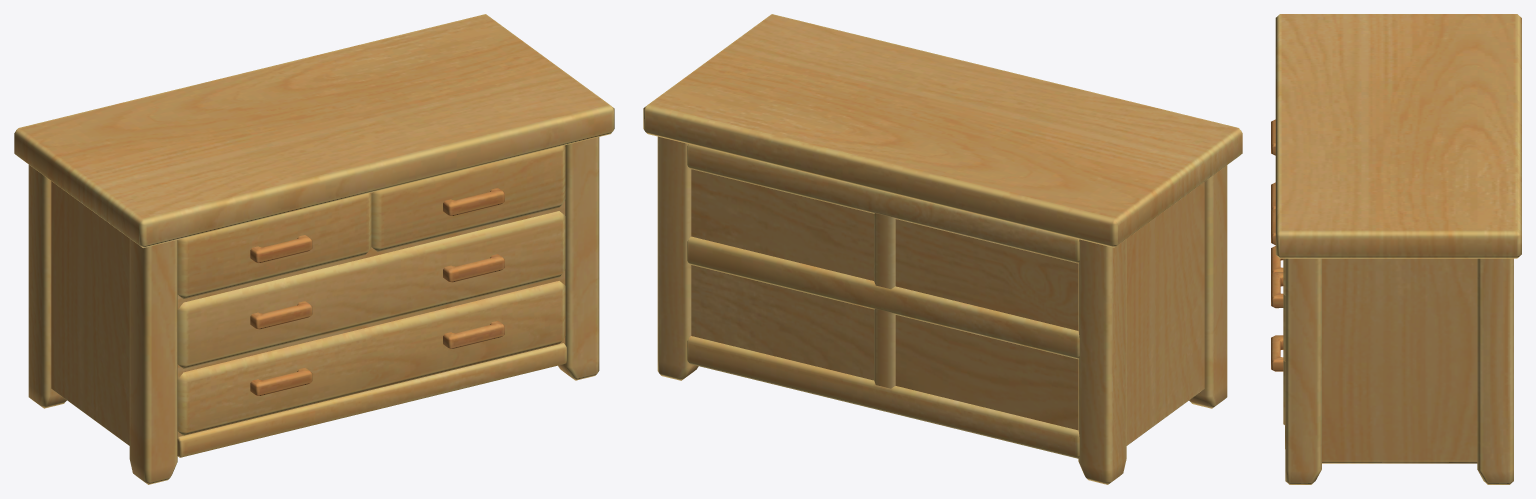
The model's file is woodenchest.glb.
The picture shows the model from 3 angles, left to right: view 1: azimuth 30°, elevation 25°; view 2: azimuth 150°, elevation 25°; view 3: azimuth 270°, elevation 25°; orthographic projection. The views are drawn at different scales.
Parts seen in each view (by area): view 1: body__mReBody; view 2: body__mReBody; view 3: body__mReBody.
Part boxes in pixels (x1=…): body__mReBody: x1=14, y1=14, x2=614, y2=484; body__mReBody: x1=643, y1=14, x2=1242, y2=484; body__mReBody: x1=1271, y1=14, x2=1521, y2=484.
Size of the model in its own units: 16.66 by 9.1 by 7.99.
Materials: 1 (1 with a texture image).
